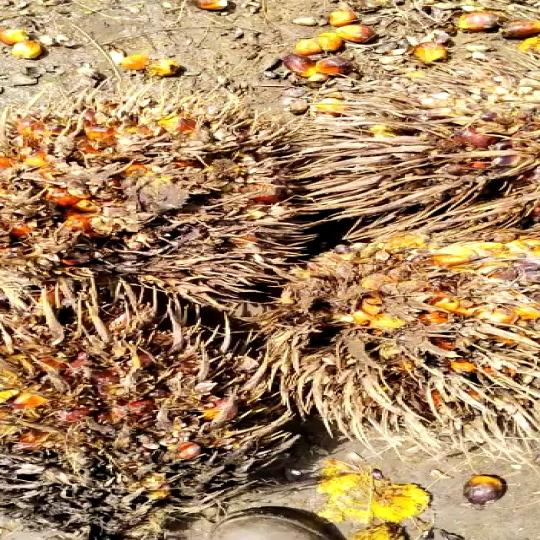terlalu masak: (0, 278, 279, 506), (0, 110, 308, 284)
